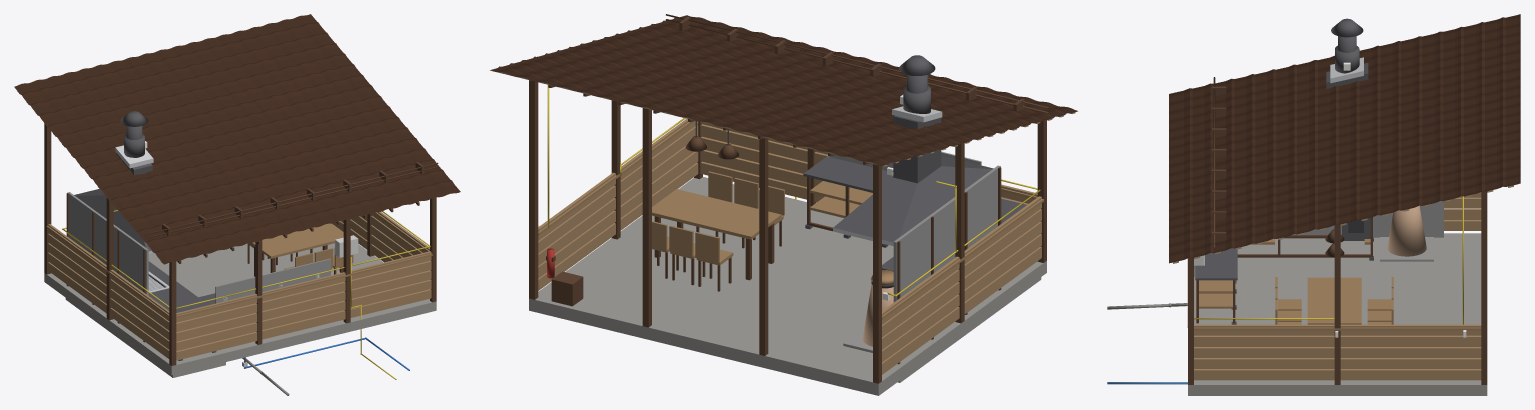
3 views of the same model, side by side, from view 1: azimuth 30°, elevation 25°; view 2: azimuth 150°, elevation 25°; view 3: azimuth 270°, elevation 25° (orthographic). The views are drawn at different scales.
Parts seen in each view (by area): view 1: Krysha, Plita, Ekran_negoryuchiy, Parapet_zad_d1, Parapet_zad_d3, Parapet_zad_d4, Parapet_zad_d2, Parapet_zad_d5, Fartuk, Stol, Parapet_lev_d2, Parapet_lev_d4 (+23 smaller); view 2: Plita, Krysha, Ekran_negoryuchiy, Zont_kupol, Stol, Stolb_06, Stolb_04, Stolb_05, Parapet_lev_d2, Parapet_lev_d4, Parapet_lev_d1, Parapet_lev_d3 (+31 smaller); view 3: Krysha, Plita, Parapet_prav_d1, Parapet_prav_d4, Parapet_prav_d2, Parapet_prav_d3, Parapet_prav_d5, Stol, Tandyr, Stolb_04, Ekran_negoryuchiy, Parapet_prav_por (+15 smaller).
Part boxes in pixels (bbox=[...]): Krysha: bbox=[14, 14, 460, 264]; Plita: bbox=[44, 243, 436, 374]; Ekran_negoryuchiy: bbox=[67, 192, 148, 295]; Parapet_zad_d1: bbox=[176, 289, 431, 360]; Parapet_zad_d3: bbox=[176, 270, 431, 341]; Parapet_zad_d4: bbox=[176, 260, 431, 331]; Parapet_zad_d2: bbox=[176, 279, 431, 350]; Parapet_zad_d5: bbox=[176, 251, 431, 322]; Fartuk: bbox=[215, 258, 330, 303]; Stol: bbox=[250, 223, 343, 258]; Parapet_lev_d2: bbox=[48, 252, 169, 349]; Parapet_lev_d4: bbox=[48, 233, 169, 330]; Plita: bbox=[529, 177, 1046, 395]; Krysha: bbox=[490, 15, 1077, 165]; Ekran_negoryuchiy: bbox=[893, 165, 1000, 302]; Zont_kupol: bbox=[833, 156, 993, 242]; Stol: bbox=[652, 189, 781, 239]; Stolb_06: bbox=[642, 108, 651, 327]; Stolb_04: bbox=[529, 80, 538, 299]; Stolb_05: bbox=[759, 138, 768, 355]; Parapet_lev_d2: bbox=[882, 234, 1041, 362]; Parapet_lev_d4: bbox=[882, 209, 1041, 337]; Parapet_lev_d1: bbox=[882, 246, 1041, 374]; Parapet_lev_d3: bbox=[882, 221, 1041, 349]; Krysha: bbox=[1169, 14, 1520, 263]; Plita: bbox=[1188, 233, 1487, 395]; Parapet_prav_d1: bbox=[1194, 369, 1481, 380]; Parapet_prav_d4: bbox=[1194, 335, 1481, 346]; Parapet_prav_d2: bbox=[1194, 358, 1481, 368]; Parapet_prav_d3: bbox=[1194, 347, 1481, 357]; Parapet_prav_d5: bbox=[1194, 324, 1481, 335]; Stol: bbox=[1307, 277, 1361, 324]; Tandyr: bbox=[1387, 205, 1426, 256]; Stolb_04: bbox=[1481, 191, 1487, 384]; Ekran_negoryuchiy: bbox=[1292, 201, 1443, 237]; Parapet_prav_por: bbox=[1194, 327, 1481, 330].
Size of what is drawn, in the model's own units: 6.72 by 5 by 6.91.
